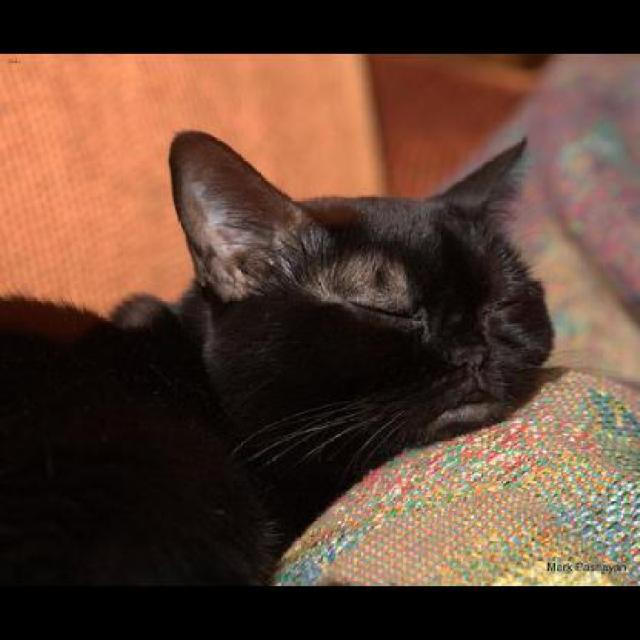unauthorized: (0, 126, 571, 586)
